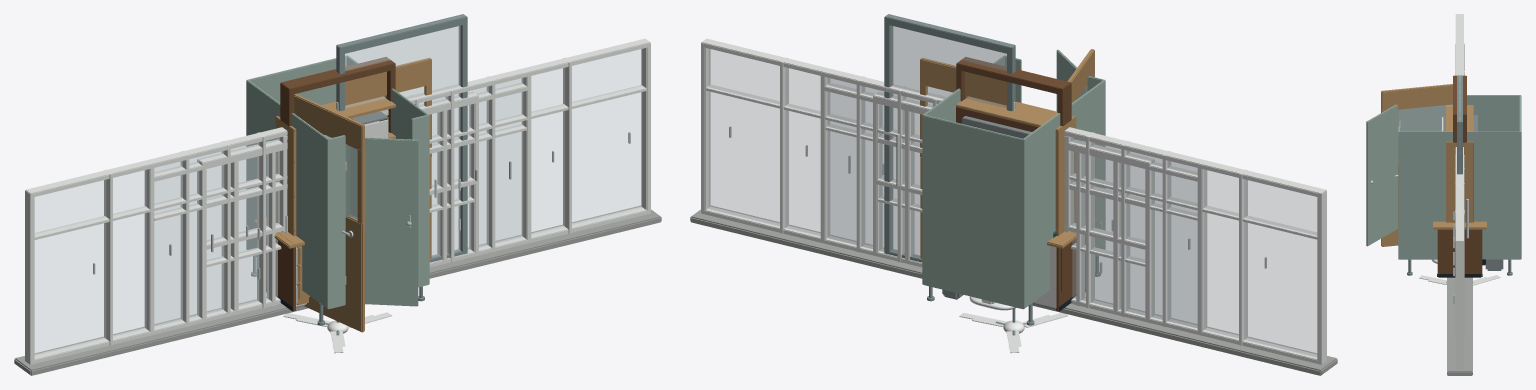
The model's file is prototypes.glb.
The picture shows the model from 3 angles, left to right: view 1: azimuth 30°, elevation 25°; view 2: azimuth 150°, elevation 25°; view 3: azimuth 270°, elevation 25°; orthographic projection. The views are drawn at different scales.
Visible parts, largest first — view 1: Asset_Window_7_00_1_85_standard__Glass_ClearArchitectural, Asset_ToiletStall__Laminate_MutedSage, Asset_Window_7_00_1_85_standard__Paint_OffWhite, Asset_Window_4_30_1_70_standard__Glass_ClearArchitectural, Asset_Window_4_30_1_85_standard__Glass_ClearArchitectural, Asset_Window_4_30_1_70_standard__Paint_OffWhite, Asset_EntryLeaf_-1__Glass_ClearArchitectural, Asset_Window_3_12_1_73_class__Paint_OffWhite, Asset_Classroom_DoorOpen__Wood_Honey, Asset_EntryLeaf_-1__Steel_PowderCoat, Asset_Window_7_00_1_85_standard__Concrete_FineCast, Asset_Window_4_30_1_85_standard__Paint_OffWhite (+13 smaller); view 2: Asset_Window_7_00_1_85_standard__Glass_ClearArchitectural, Asset_ToiletStall__Laminate_MutedSage, Asset_Window_7_00_1_85_standard__Paint_OffWhite, Asset_Window_4_30_1_70_standard__Glass_ClearArchitectural, Asset_Window_4_30_1_85_standard__Glass_ClearArchitectural, Asset_Window_4_30_1_70_standard__Paint_OffWhite, Asset_Window_3_12_1_73_class__Paint_OffWhite, Asset_Window_2_40_1_70_standard__Glass_ClearArchitectural, Asset_EntryLeaf_-1__Steel_PowderCoat, Asset_Window_4_30_1_85_standard__Paint_OffWhite, Asset_EntryLeaf_-1__Glass_ClearArchitectural, Asset_Window_7_00_1_85_standard__Concrete_FineCast (+14 smaller); view 3: Asset_ToiletStall__Laminate_MutedSage, Asset_Window_7_00_1_85_standard__Paint_OffWhite, Asset_Bookcase__Wood_Honey, Asset_Classroom_DoorOpen__Wood_Honey, Asset_TeacherDesk__Wood_Walnut, Asset_Classroom_DoorOpen__Glass_ClearArchitectural, Asset_Window_7_00_1_85_standard__Concrete_FineCast, Asset_Window_4_30_1_70_standard__Concrete_FineCast, Asset_EntryLeaf_-1__Steel_PowderCoat, Asset_Classroom_DoorOpen__Wood_Walnut, Asset_CeilingFan__Paint_OffWhite, Asset_ToiletStall__Paint_Slate (+3 smaller).
Part boxes in pixels (box(x1,y1,x2,y2)): Asset_Window_7_00_1_85_standard__Glass_ClearArchitectural: box(35, 49, 642, 355); Asset_ToiletStall__Laminate_MutedSage: box(246, 55, 429, 309); Asset_Window_7_00_1_85_standard__Paint_OffWhite: box(25, 38, 650, 364); Asset_Window_4_30_1_70_standard__Glass_ClearArchitectural: box(155, 93, 522, 326); Asset_Window_4_30_1_85_standard__Glass_ClearArchitectural: box(154, 78, 522, 325); Asset_Window_4_30_1_70_standard__Paint_OffWhite: box(144, 82, 531, 331); Asset_EntryLeaf_-1__Glass_ClearArchitectural: box(345, 26, 460, 256); Asset_Window_3_12_1_73_class__Paint_OffWhite: box(197, 92, 478, 319); Asset_Classroom_DoorOpen__Wood_Honey: box(294, 94, 365, 332); Asset_EntryLeaf_-1__Steel_PowderCoat: box(336, 14, 467, 262); Asset_Window_7_00_1_85_standard__Concrete_FineCast: box(14, 205, 661, 375); Asset_Window_4_30_1_85_standard__Paint_OffWhite: box(144, 76, 531, 331); Asset_Window_7_00_1_85_standard__Glass_ClearArchitectural: box(708, 49, 1316, 357); Asset_ToiletStall__Laminate_MutedSage: box(922, 49, 1105, 309); Asset_Window_7_00_1_85_standard__Paint_OffWhite: box(701, 38, 1326, 364); Asset_Window_4_30_1_70_standard__Glass_ClearArchitectural: box(828, 92, 1196, 327); Asset_Window_4_30_1_85_standard__Glass_ClearArchitectural: box(828, 78, 1197, 327); Asset_Window_4_30_1_70_standard__Paint_OffWhite: box(820, 82, 1207, 331); Asset_Window_3_12_1_73_class__Paint_OffWhite: box(873, 92, 1154, 319); Asset_Window_2_40_1_70_standard__Glass_ClearArchitectural: box(913, 113, 1112, 306); Asset_EntryLeaf_-1__Steel_PowderCoat: box(884, 14, 1015, 262); Asset_Window_4_30_1_85_standard__Paint_OffWhite: box(820, 76, 1207, 331); Asset_EntryLeaf_-1__Glass_ClearArchitectural: box(891, 26, 1006, 107); Asset_Window_7_00_1_85_standard__Concrete_FineCast: box(690, 205, 1337, 375); Asset_ToiletStall__Laminate_MutedSage: box(1366, 95, 1521, 259); Asset_Window_7_00_1_85_standard__Paint_OffWhite: box(1455, 14, 1464, 369); Asset_Bookcase__Wood_Honey: box(1446, 105, 1473, 222); Asset_Classroom_DoorOpen__Wood_Honey: box(1381, 84, 1452, 246); Asset_TeacherDesk__Wood_Walnut: box(1437, 229, 1482, 276); Asset_Classroom_DoorOpen__Glass_ClearArchitectural: box(1399, 104, 1452, 131); Asset_Window_7_00_1_85_standard__Concrete_FineCast: box(1447, 277, 1472, 375); Asset_Window_4_30_1_70_standard__Concrete_FineCast: box(1447, 277, 1471, 327); Asset_EntryLeaf_-1__Steel_PowderCoat: box(1457, 75, 1462, 174); Asset_Classroom_DoorOpen__Wood_Walnut: box(1453, 75, 1466, 142); Asset_CeilingFan__Paint_OffWhite: box(1419, 275, 1500, 285); Asset_ToiletStall__Paint_Slate: box(1485, 259, 1503, 270).
Bounding box in the file's own units: 7.12 × 3.09 × 2.02.
